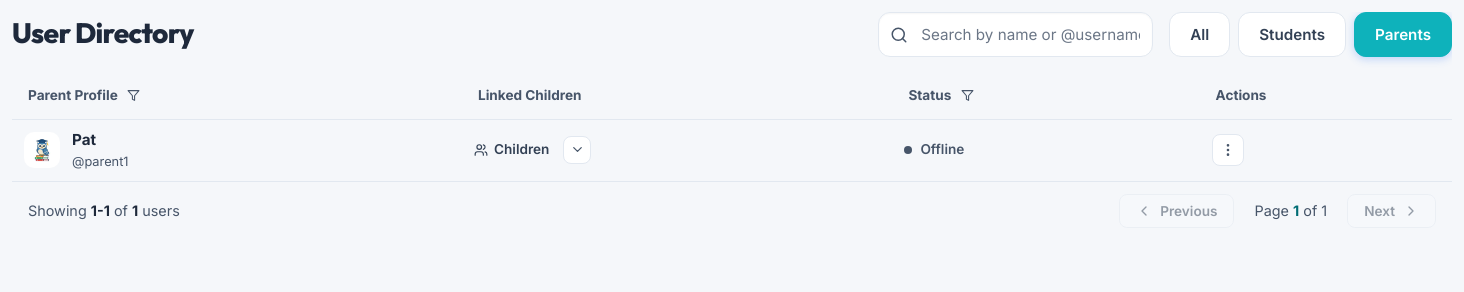
it: Users Page › keyboard and screen reader access › names the expand button after the parent and reports whether the children are shown
What coordinates should you click on to do the following:
click the button named "Expand children of @parent1"
I would click on:
 (577, 150)
Its box is [563,136,591,164].
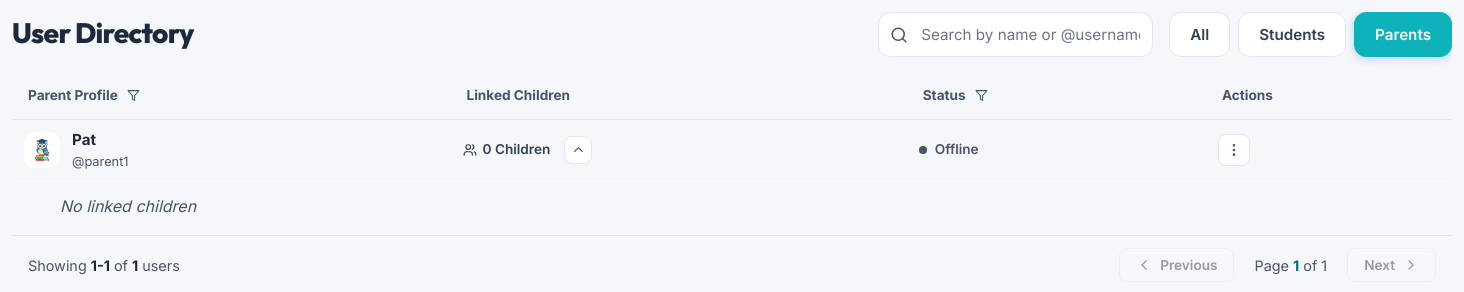
Result: the button named "Collapse children of @parent1" is expanded at [564,136,592,164]
